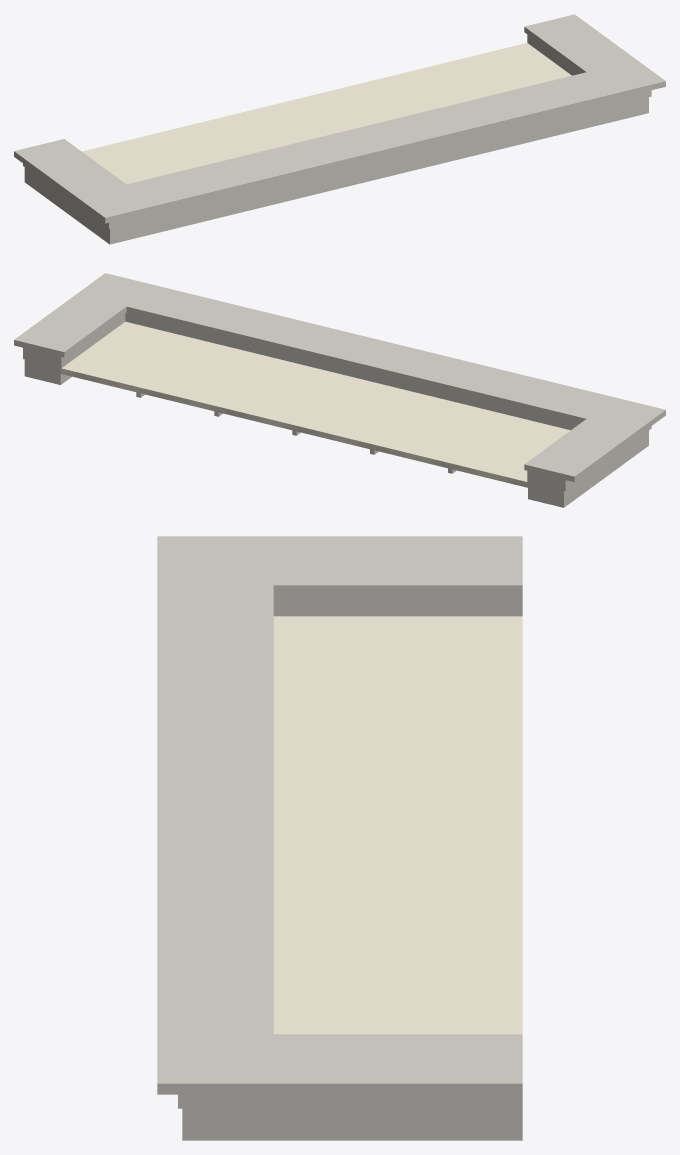
The model's file is portico_entablature.glb.
3 renders of one model, top to bottom at view 1: azimuth 30°, elevation 25°; view 2: azimuth 150°, elevation 25°; view 3: azimuth 270°, elevation 25°, orthographic. The views are drawn at different scales.
Visible parts, largest first — view 1: portico_entablature_cornice, portico_entablature_plaster; view 2: portico_entablature_cornice, portico_entablature_plaster; view 3: portico_entablature_cornice, portico_entablature_plaster.
Part boxes in pixels (<box>): portico_entablature_cornice: <box>14,14,665,244</box>; portico_entablature_plaster: <box>82,43,571,184</box>; portico_entablature_cornice: <box>14,273,665,507</box>; portico_entablature_plaster: <box>60,321,570,487</box>; portico_entablature_cornice: <box>157,536,522,1140</box>; portico_entablature_plaster: <box>273,616,522,1034</box>.
Size of the model in its own units: 15.6 by 0.9 by 4.4.
2 materials, 1 textured.
